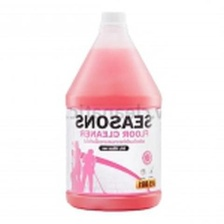cleaning_solution: (61, 7, 166, 215)
